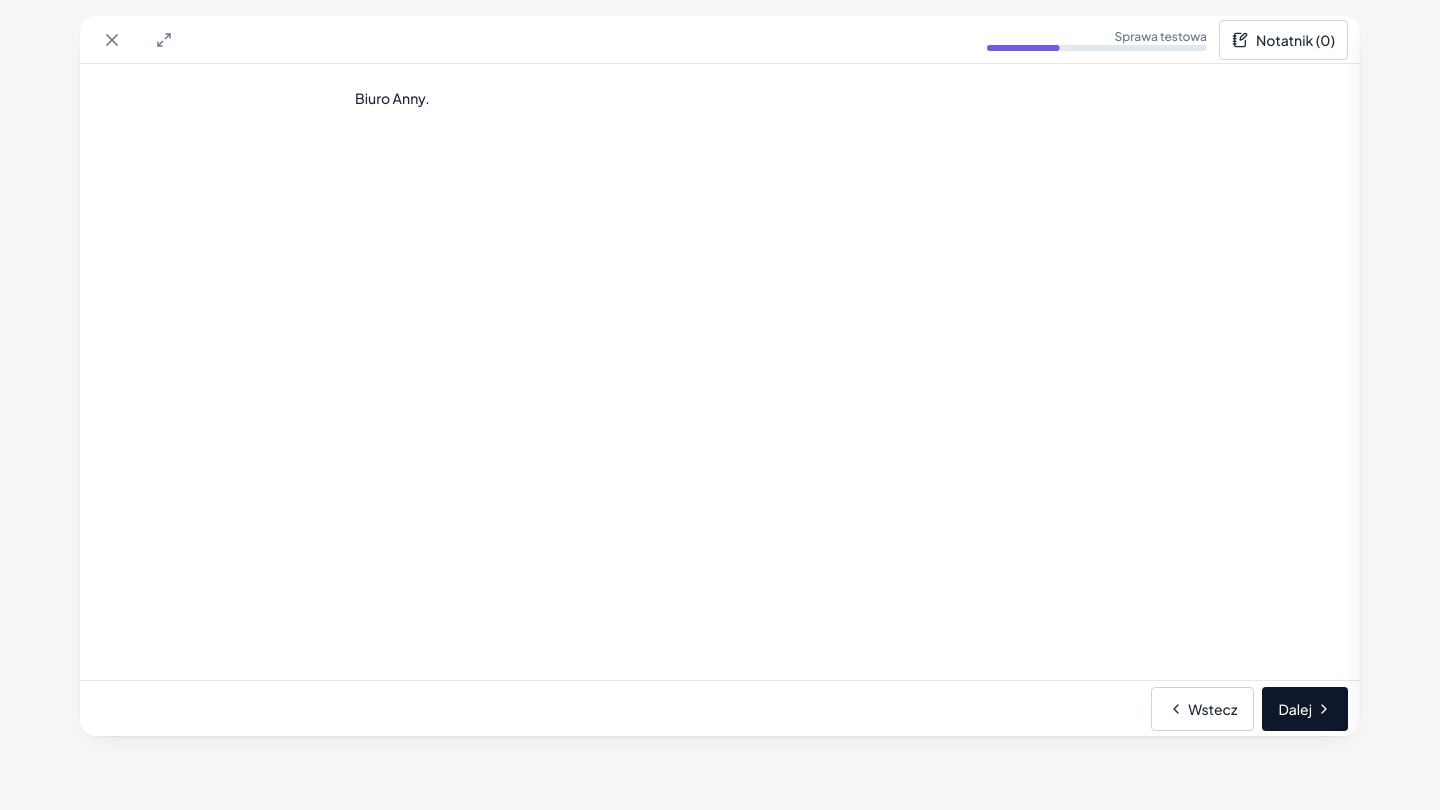
Test: CoursePlayer: odprawa (BRIEFING) › ponowne wejście w ukończoną odprawę ("Wstecz"): bez "Pomiń odprawę" - „Dalej” w pasku aktywny od razu, przewija dalej bez zapisu
Click the button "Wstecz" at (1203, 708), box [1151,686,1254,730]
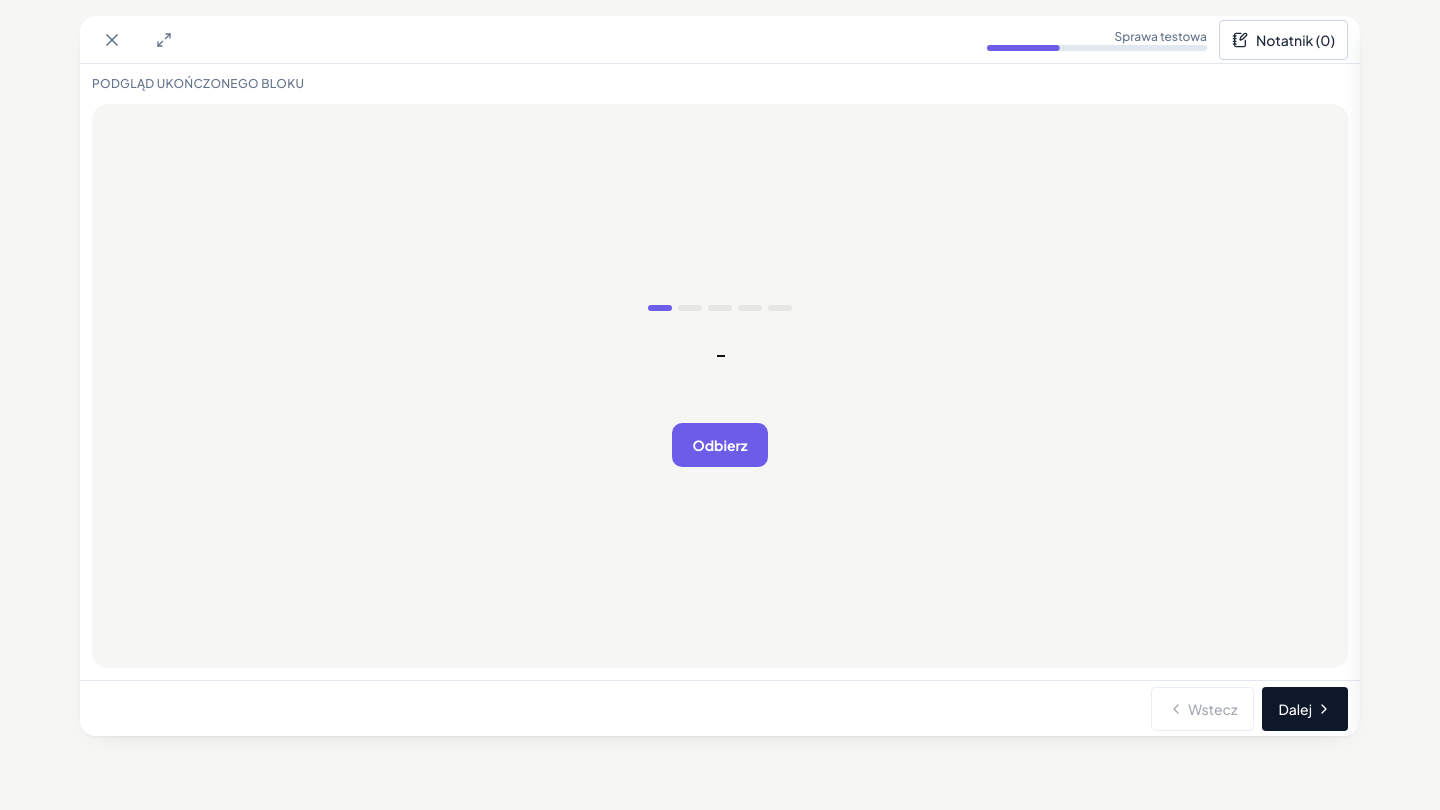
expect the element with test id "review-block" is shown: met
expect the button "Odbierz" is shown: met, box [672,423,768,467]
Click the button "Dalej" at (1305, 708), box [1262,686,1348,730]
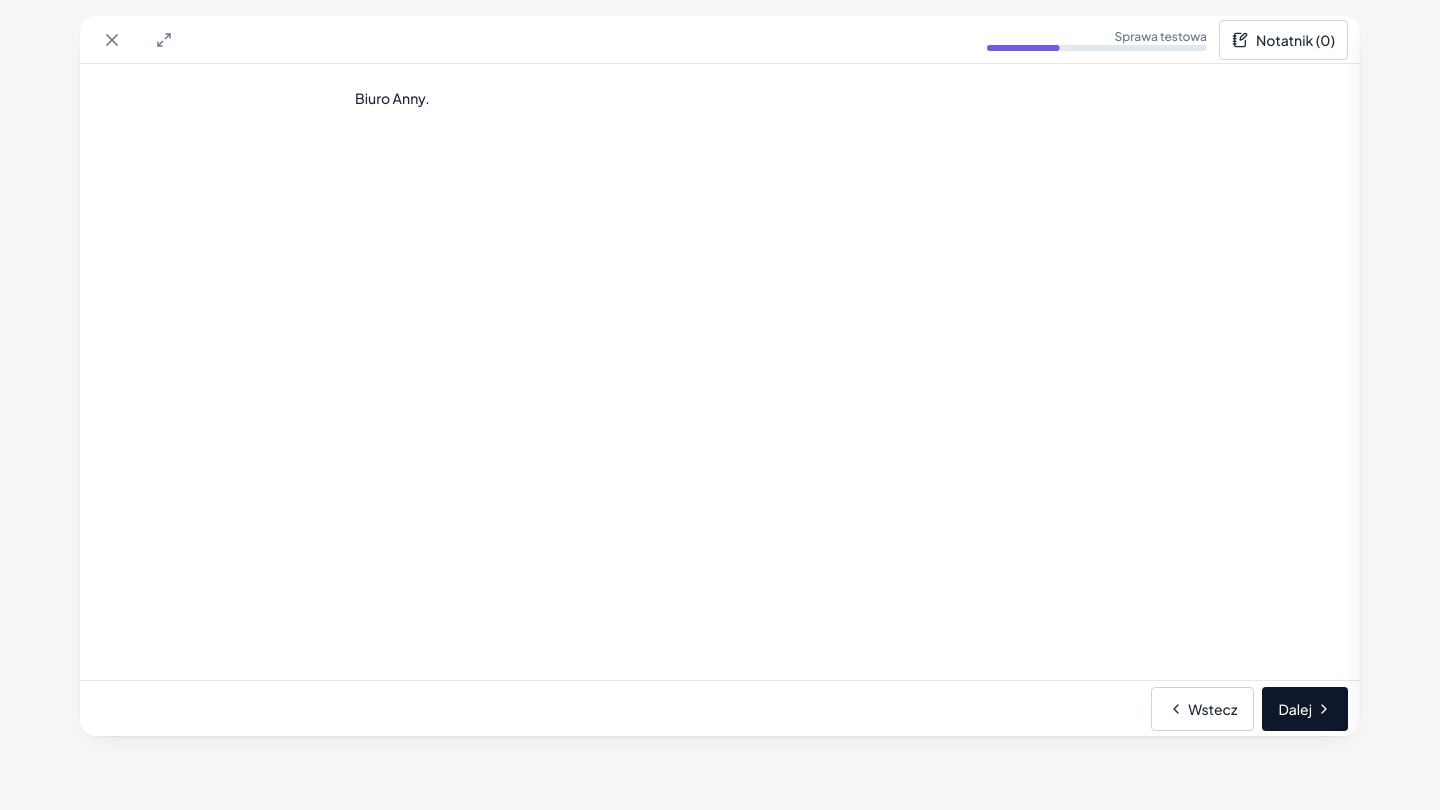
expect the element with test id "review-block" is gone: met
expect the text "Biuro Anny." is shown: met, box [355,89,430,107]
